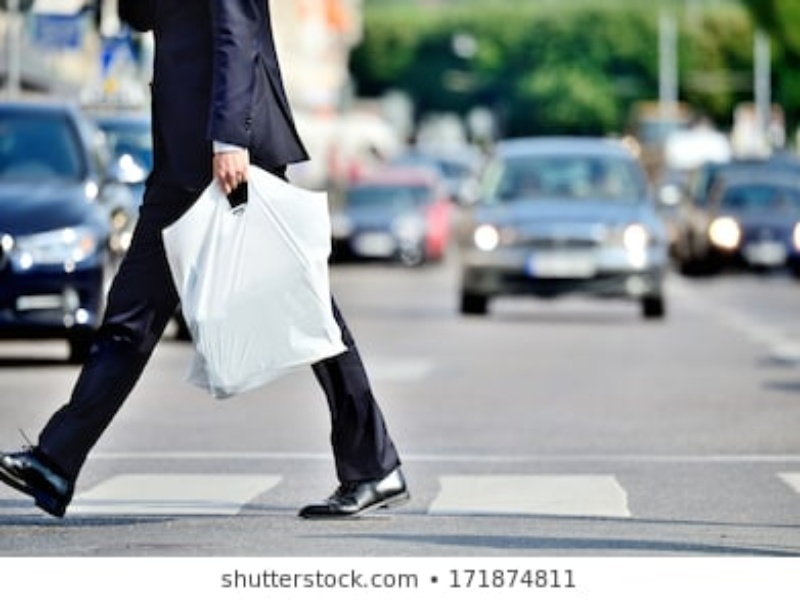plastic-bag: (150, 154, 364, 401)
